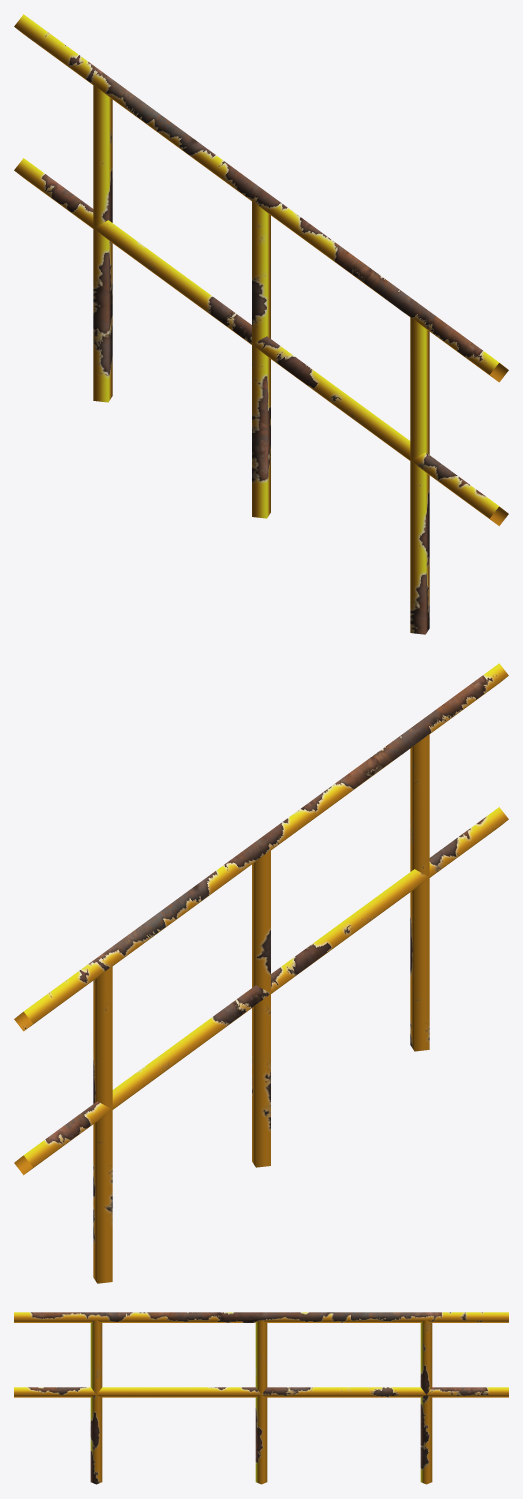
Rendered from safetyRail_3m.fbx.
3 renders of one model, top to bottom at view 1: azimuth 30°, elevation 25°; view 2: azimuth 150°, elevation 25°; view 3: azimuth 270°, elevation 25°, orthographic. The views are drawn at different scales.
Parts seen in each view (by area): view 1: safetyRail_3m; view 2: safetyRail_3m; view 3: safetyRail_3m.
Boxes of the visible parts, <box> form: safetyRail_3m: <box>14,14,508,634</box>; safetyRail_3m: <box>14,663,508,1283</box>; safetyRail_3m: <box>14,1312,508,1484</box>.
Size of the model in its own units: 7 by 113 by 300.
